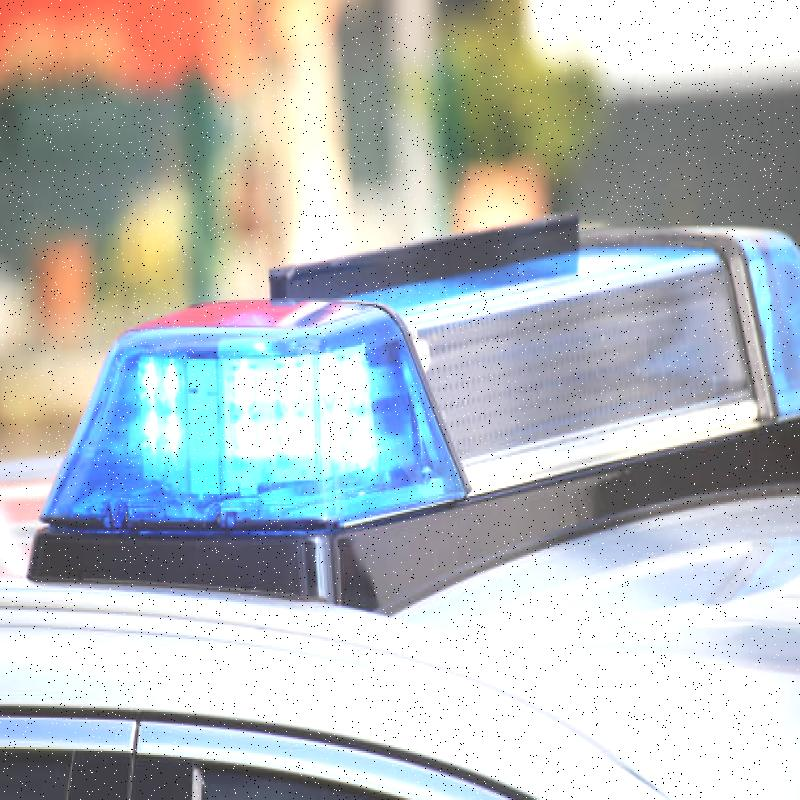AmbulanceSiren: (37, 213, 800, 618)
